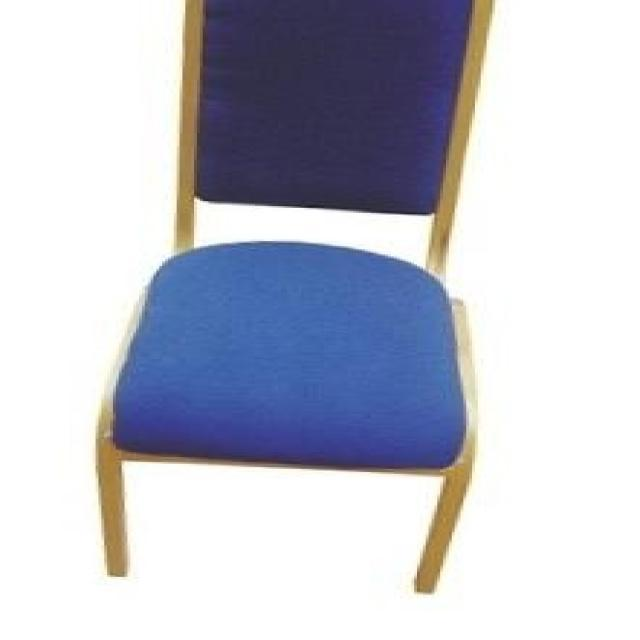chair: (84, 1, 507, 598)
